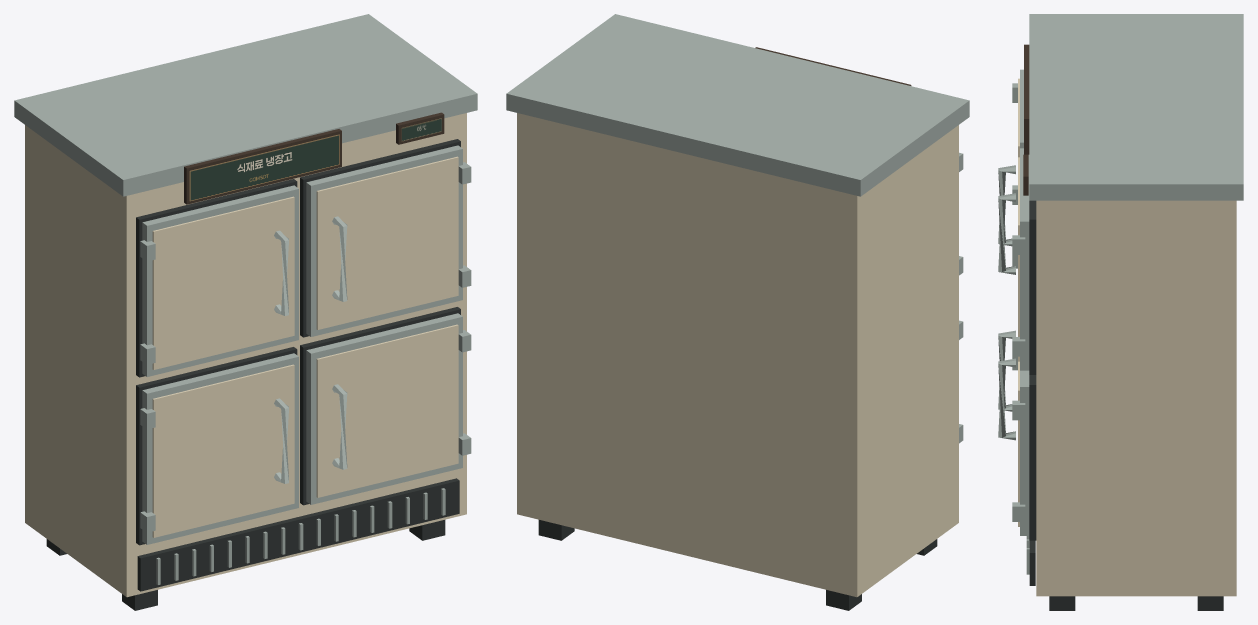
File: 08_Four_Door_Refrigerator.fbx
3 views of the same model, side by side, from view 1: azimuth 30°, elevation 25°; view 2: azimuth 150°, elevation 25°; view 3: azimuth 270°, elevation 25° (orthographic).
Visible parts, largest first — view 1: 08_Four_Door_Refrigerator__Structure, 08_Four_Door_Refrigerator; view 2: 08_Four_Door_Refrigerator__Structure; view 3: 08_Four_Door_Refrigerator__Structure, 08_Four_Door_Refrigerator.
Boxes of the visible parts, x1=… form: 08_Four_Door_Refrigerator__Structure: x1=14, y1=14, x2=477, y2=610; 08_Four_Door_Refrigerator: x1=142, y1=145, x2=462, y2=544; 08_Four_Door_Refrigerator__Structure: x1=506, y1=14, x2=969, y2=610; 08_Four_Door_Refrigerator__Structure: x1=1012, y1=14, x2=1243, y2=610; 08_Four_Door_Refrigerator: x1=998, y1=69, x2=1029, y2=535.
Bounding box in the file's own units: 201 × 241 × 122.
2 materials, 2 textured.
